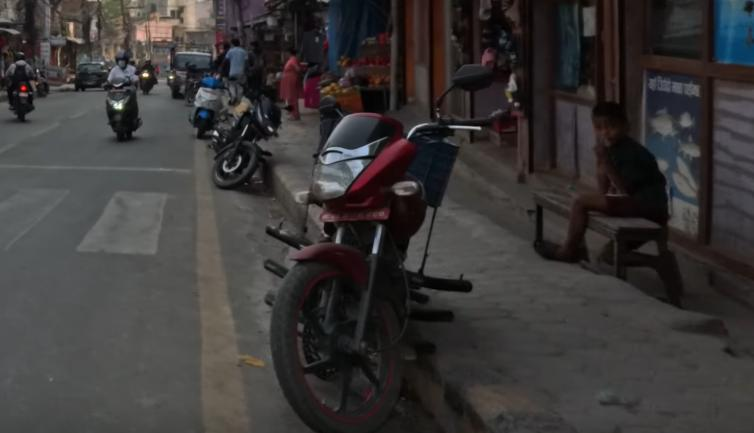bike: (256, 62, 492, 433)
